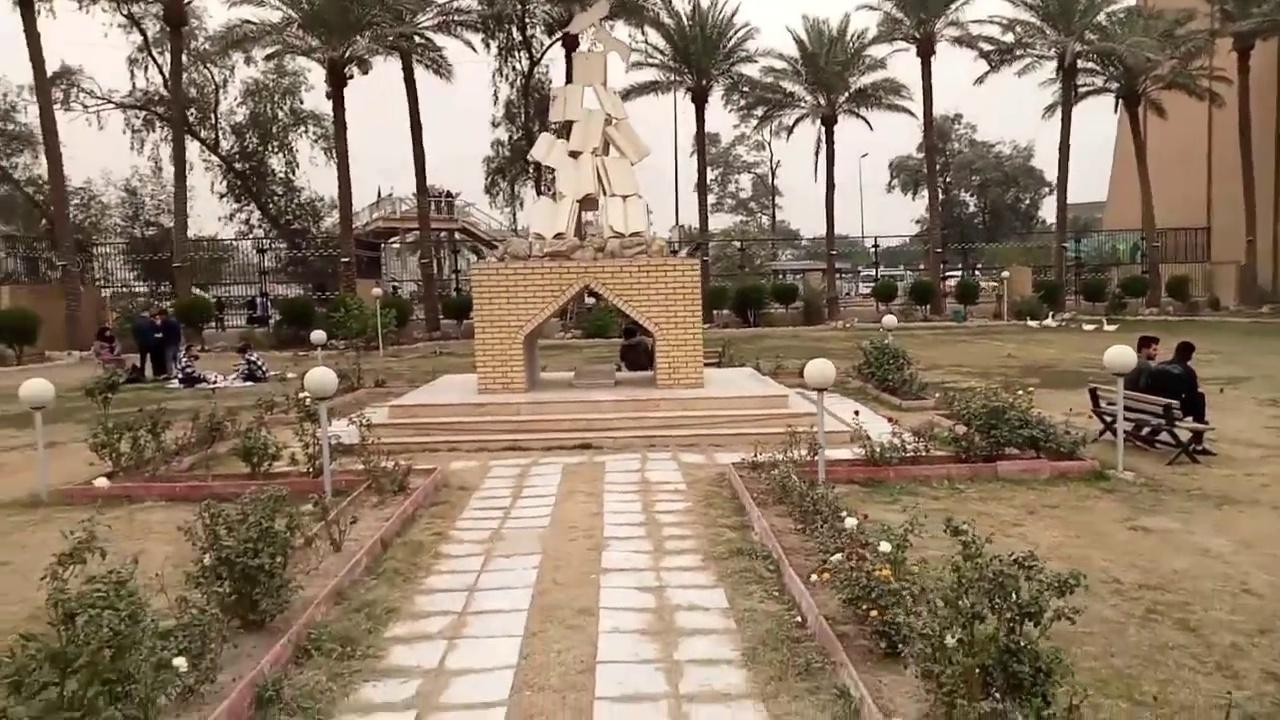person: (1139, 340, 1216, 455), (130, 306, 167, 380), (1124, 334, 1160, 392), (155, 307, 182, 380), (618, 324, 652, 371), (92, 325, 125, 372), (231, 342, 268, 383), (213, 296, 226, 332), (442, 189, 455, 216)
tree: (50, 0, 335, 313), (215, 0, 412, 299), (738, 10, 918, 319), (967, 0, 1129, 310), (1067, 1, 1225, 309), (454, 0, 649, 239), (617, 0, 759, 322), (881, 514, 1089, 718), (359, 0, 478, 335), (855, 0, 981, 316), (104, 0, 227, 309), (6, 0, 114, 350), (0, 515, 180, 720), (886, 111, 1055, 290), (1204, 0, 1279, 305), (174, 476, 283, 631), (920, 376, 1084, 468), (945, 136, 1054, 244), (846, 331, 932, 418), (0, 304, 42, 365), (170, 292, 214, 350), (272, 294, 315, 345), (729, 282, 769, 326), (440, 290, 472, 338), (907, 276, 939, 319), (1117, 273, 1149, 312), (1031, 276, 1065, 312), (952, 274, 979, 318), (702, 281, 730, 323), (1079, 273, 1109, 312), (870, 275, 898, 312), (769, 279, 798, 312), (1164, 272, 1193, 304)
